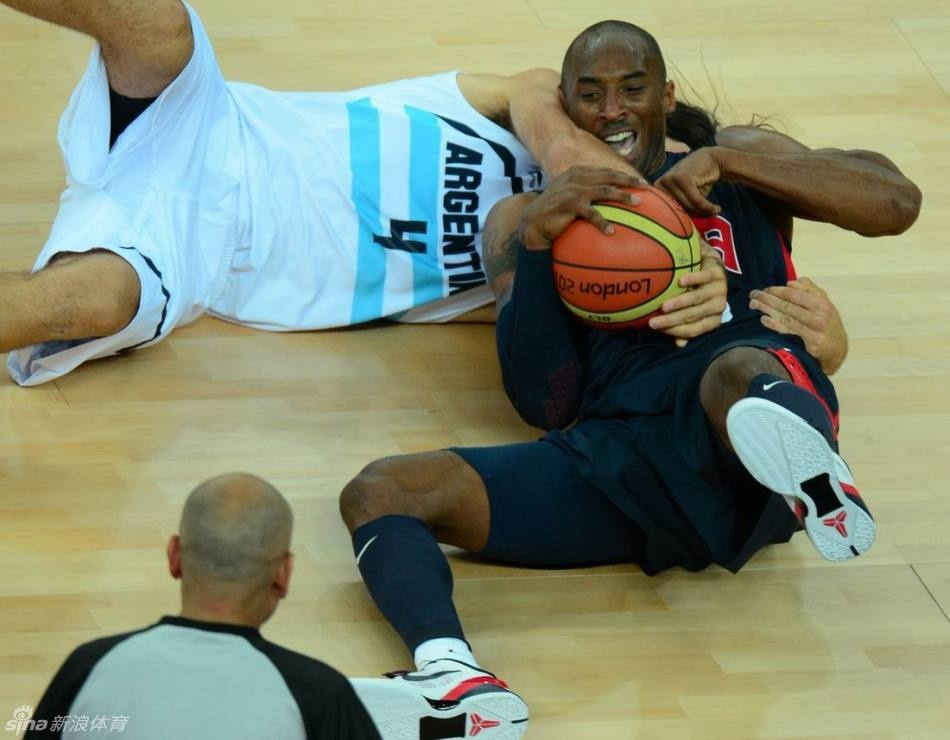falling: (254, 6, 911, 737)
